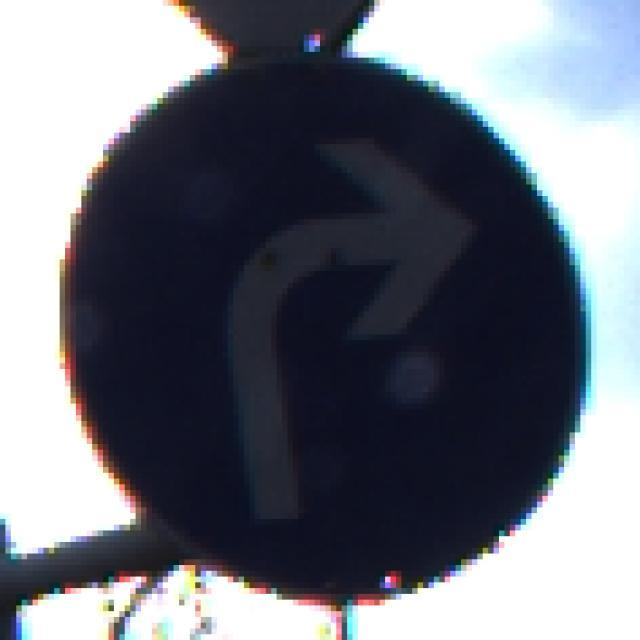compulsary turn right ahead: (66, 68, 590, 603)
